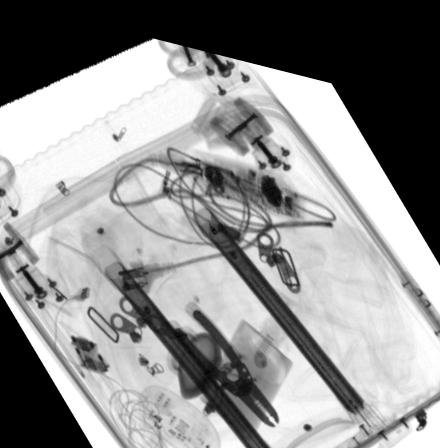Pliers: (169, 302, 280, 414)
